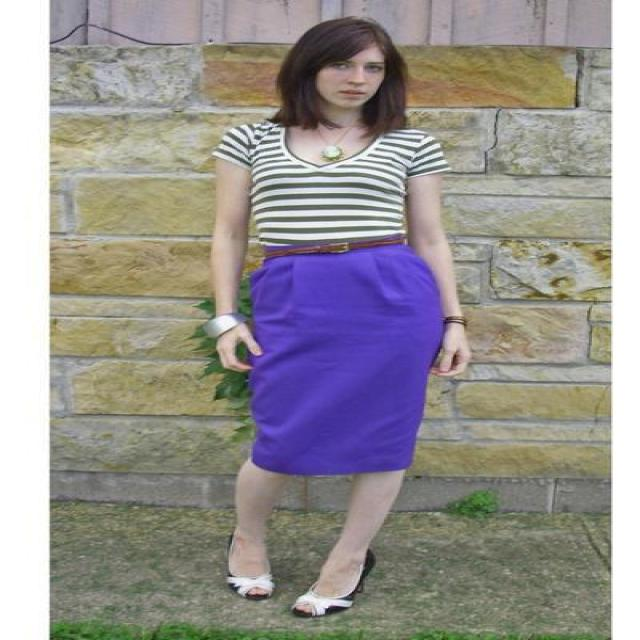shirt: (213, 124, 446, 245)
shoe: (229, 550, 374, 596)
skirt: (246, 244, 449, 475)
